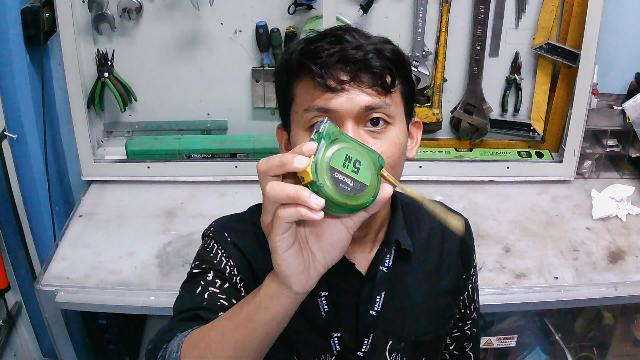meteran: (299, 116, 466, 238)
